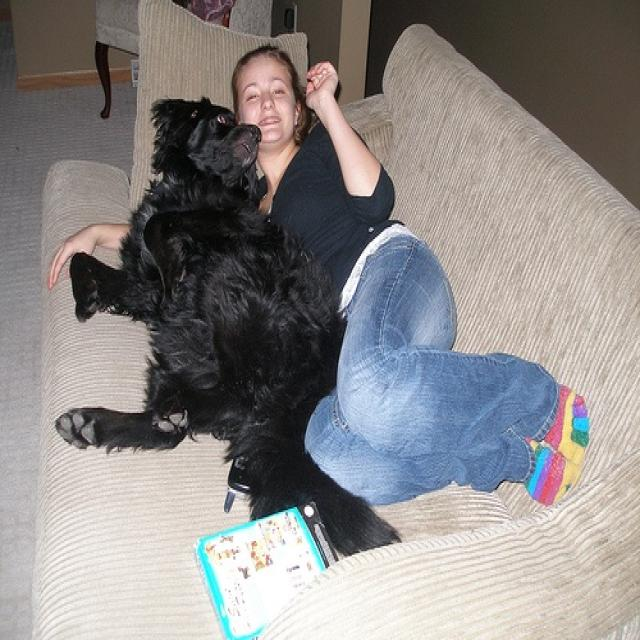dog: (55, 96, 397, 562)
sofa: (44, 24, 636, 635)
